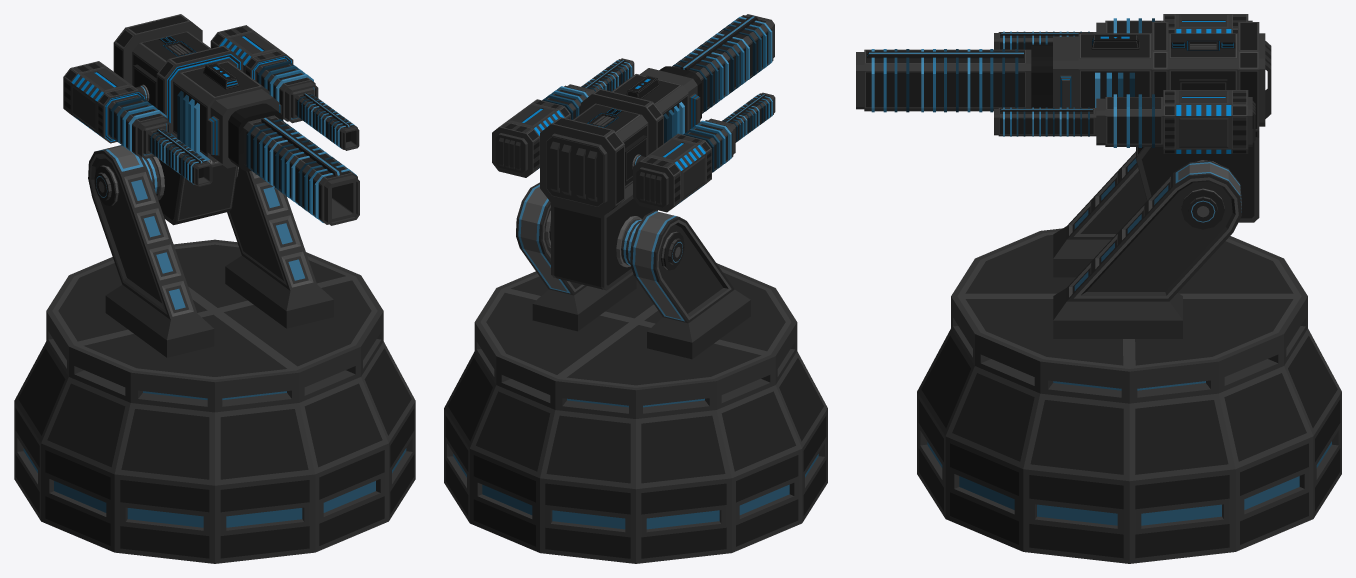
The picture shows the model from 3 angles, left to right: view 1: azimuth 30°, elevation 25°; view 2: azimuth 150°, elevation 25°; view 3: azimuth 270°, elevation 25°; orthographic projection. The views are drawn at different scales.
Parts seen in each view (by area): view 1: PTL, LT1, NTL, LTD2; view 2: PTL, LT1, NTL, LTD2; view 3: PTL, LT1, NTL, LTD2.
Boxes of the visible parts, x1,y1,x2,y2 form: PTL: (14, 239, 415, 563); LT1: (113, 14, 359, 225); NTL: (88, 145, 333, 357); LTD2: (63, 25, 359, 186); PTL: (444, 263, 827, 563); LT1: (540, 14, 774, 290); NTL: (516, 182, 750, 359); LTD2: (492, 58, 775, 212); PTL: (917, 228, 1341, 563); LT1: (856, 22, 1271, 222); NTL: (1053, 151, 1241, 338); LTD2: (994, 14, 1255, 153).
Size of the model in its own units: 782 by 888 by 894.
